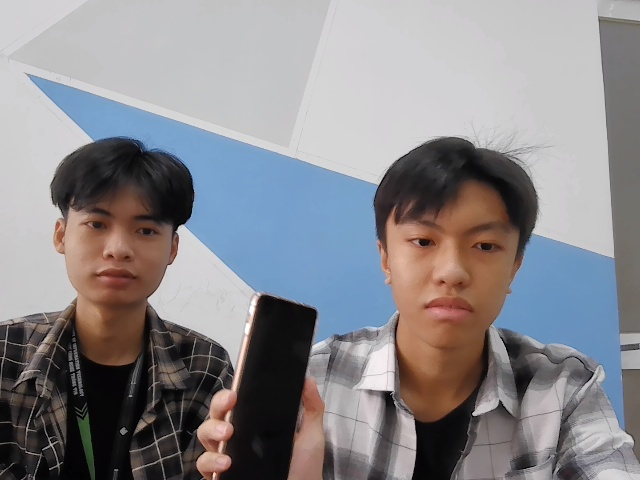human: (374, 137, 539, 347), (49, 136, 194, 306)
phone: (210, 291, 319, 480)
